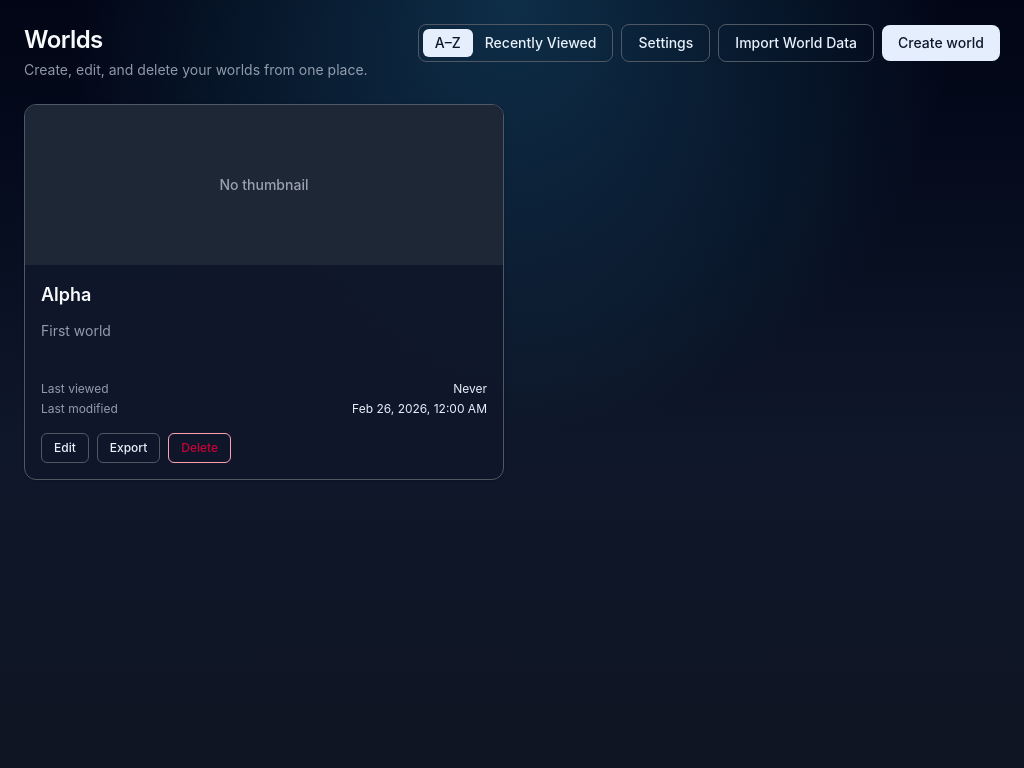
Scenario: WorldsHomePage renderer behaviors › does not delete a world when dialog cancel is clicked
Expected: the button with aria-label "Open Alpha" is shown, [24, 104, 504, 480]
Click the button "Delete" at (200, 448), box [168, 433, 231, 463]
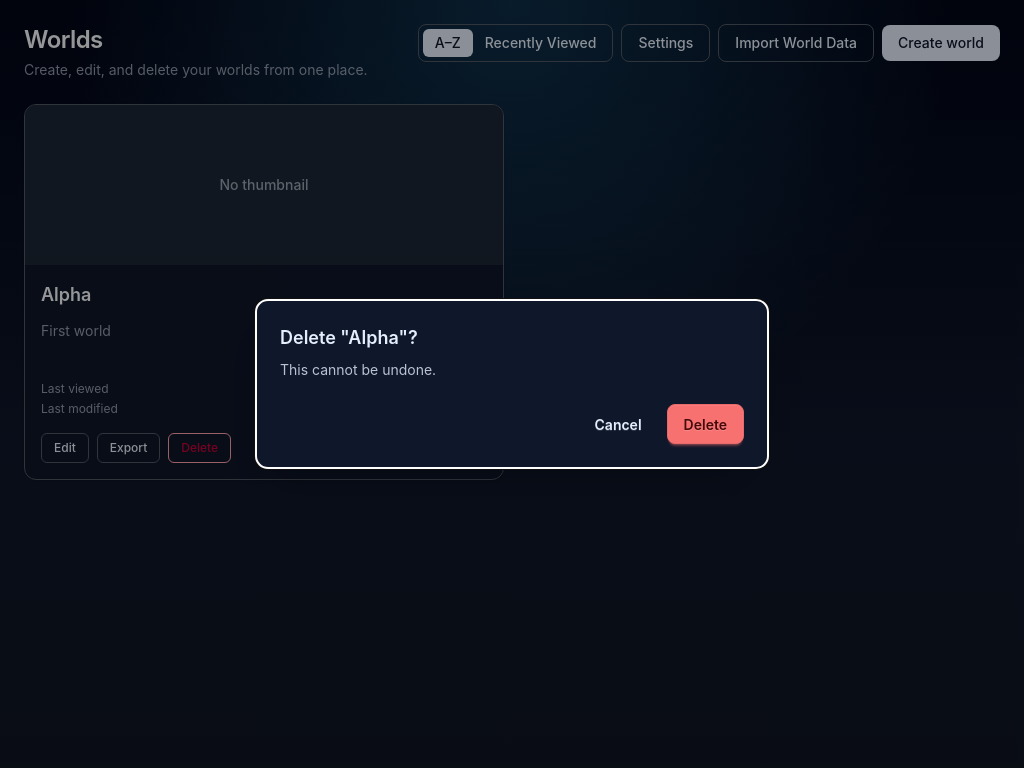
Click the button "Cancel" at (618, 424), box [578, 404, 658, 444]
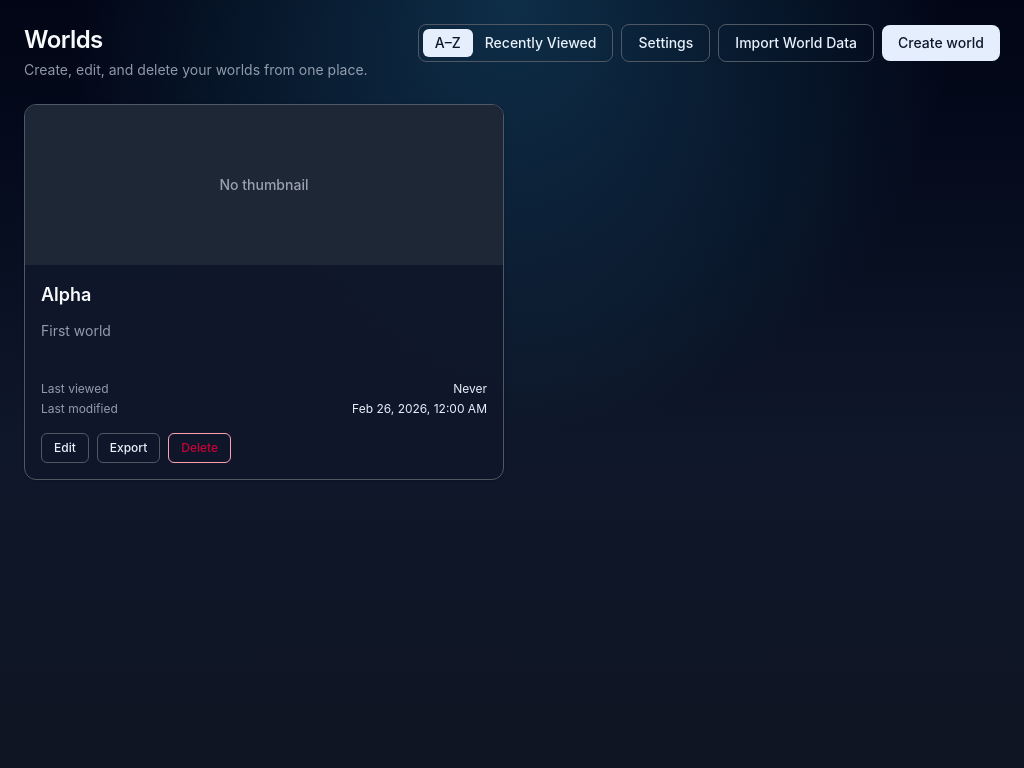
Expected: the button with aria-label "Open Alpha" is shown, [24, 104, 504, 480]
Expected: the heading "Delete \"Alpha\"?" is gone
